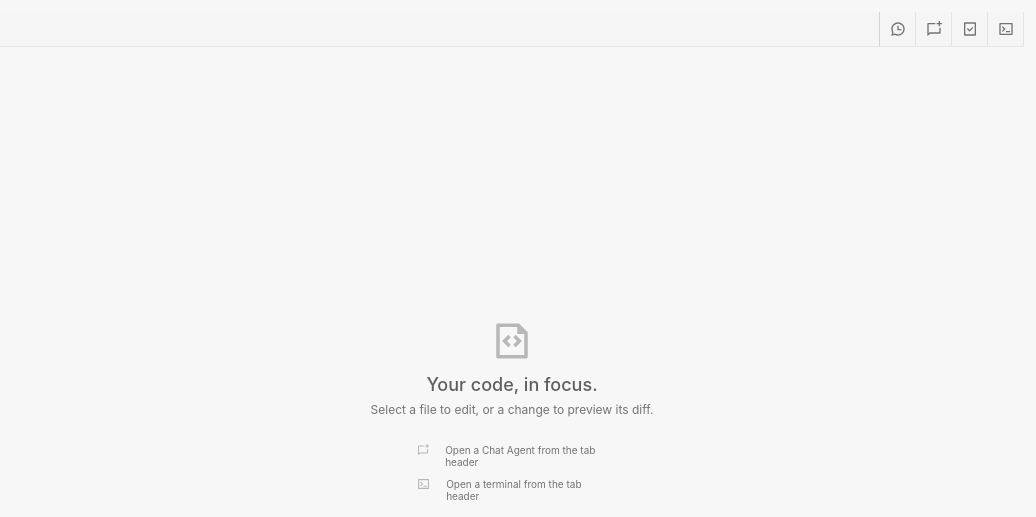
Test case: Chat history popover › closes only the context menu on Escape and restores row focus
This screenshot has width=1036, height=517.
Click the button named "Chat history" at (898, 29), box [880,12,916,46]
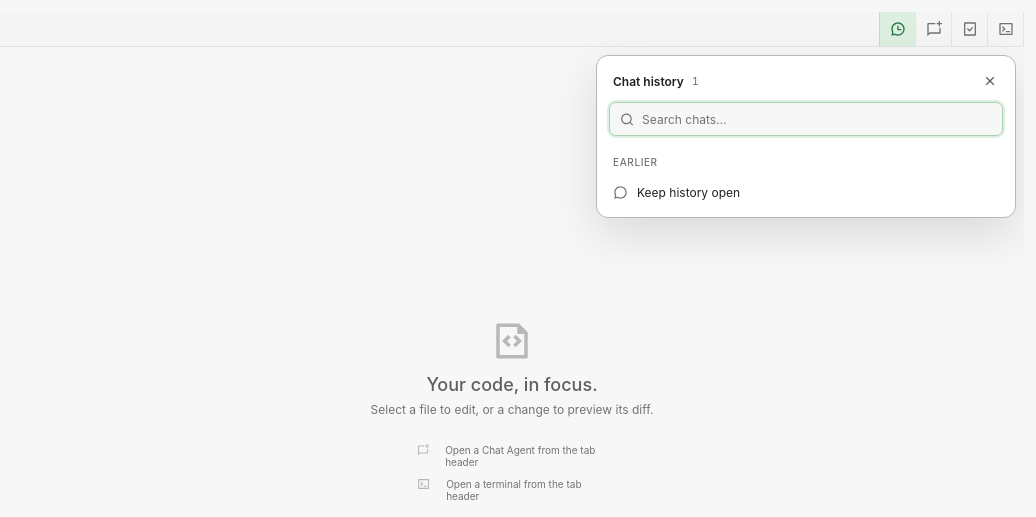
Right-click the button "Keep history open" at (689, 192), box [603,173,1009,211]
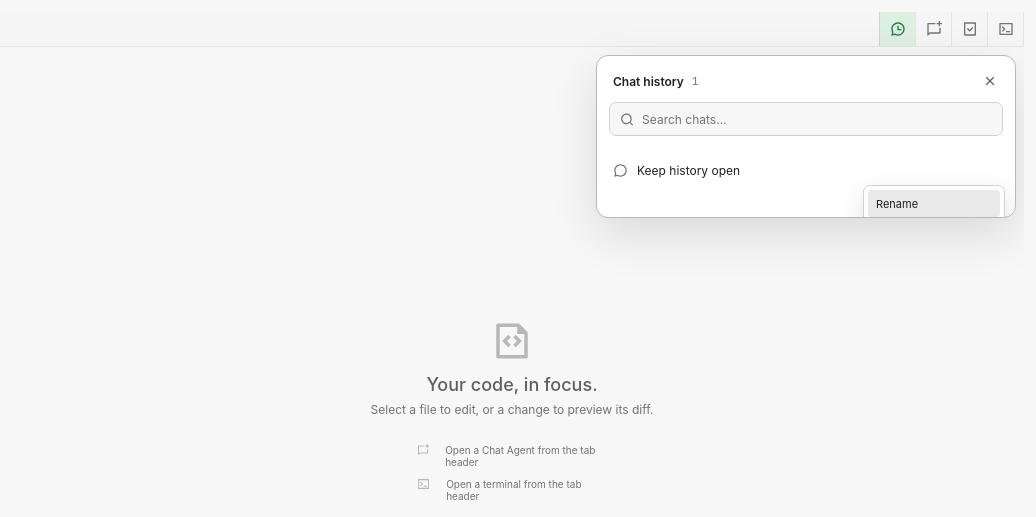
Press Escape
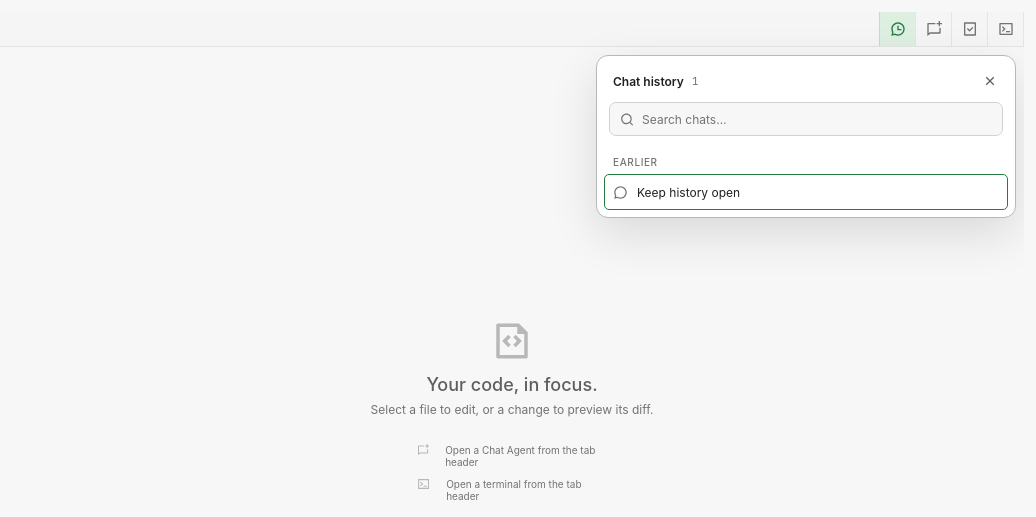
expect the element "Chat history" is shown: met, box [596,55,1016,218]
expect the menu is gone: met
